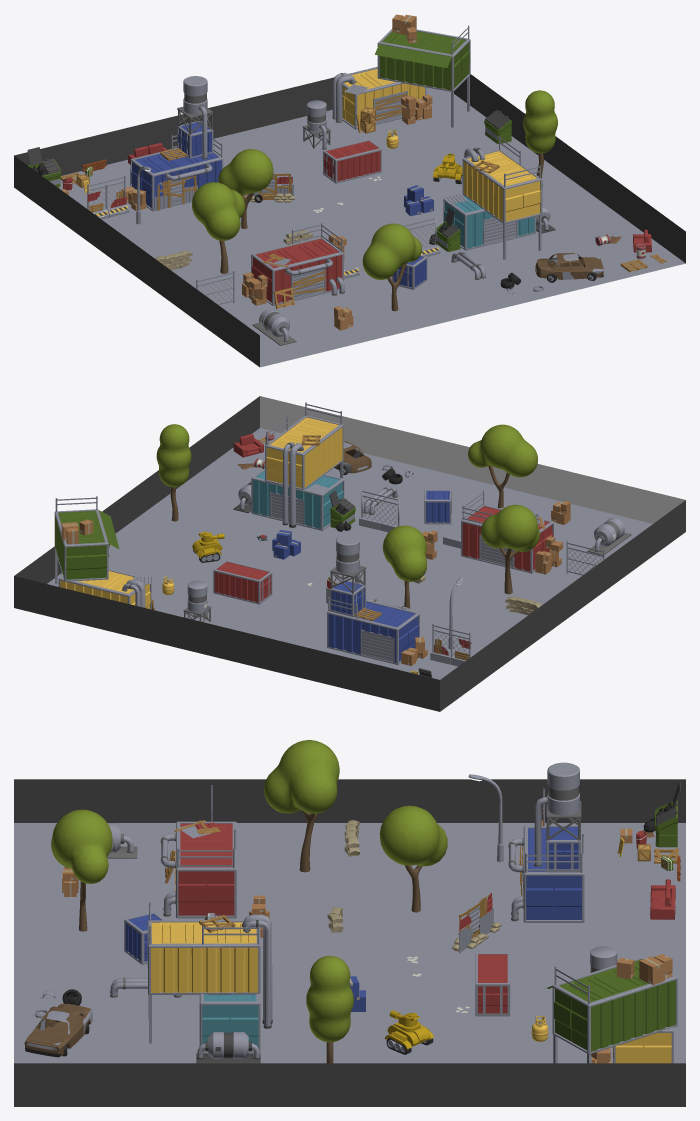
The model's file is map.glb.
3 views of the same model, one above another, from view 1: azimuth 30°, elevation 25°; view 2: azimuth 150°, elevation 25°; view 3: azimuth 270°, elevation 25° (orthographic). The views are drawn at different scales.
Parts seen in each view (by area): view 1: Plane, Structure_2, Structure_4, Structure_3, Structure_1, Tree_3, Tree_1, Tree_4, Container_Long, Tree_2, Debris_BrokenCar, Barrier_Fixed (+7 smaller); view 2: Plane, Structure_4, Structure_3, Structure_2, Structure_1, Tree_3, Tree_1, Tree_4, Container_Long, Tree_2, Barrier_Fixed, Container_Small (+7 smaller); view 3: Plane, Structure_4, Structure_2, Structure_3, Structure_1, Tree_1, Tree_3, Tree_4, Tree_2, Debris_BrokenCar, Container_Long, Barrier_Trash (+6 smaller).
Part boxes in pixels (x1,y1,x2,y2): Plane: (14, 67, 685, 367); Structure_2: (332, 14, 470, 133); Structure_4: (429, 136, 555, 259); Structure_3: (121, 76, 223, 211); Structure_1: (242, 223, 344, 309); Tree_3: (362, 223, 421, 311); Tree_1: (192, 182, 245, 273); Tree_4: (218, 149, 273, 228); Container_Long: (323, 139, 381, 183); Tree_2: (523, 90, 557, 186); Debris_BrokenCar: (535, 253, 603, 282); Barrier_Fixed: (87, 175, 129, 219); Plane: (14, 396, 685, 711); Structure_4: (233, 402, 355, 531); Structure_3: (327, 535, 427, 665); Structure_2: (54, 496, 154, 610); Structure_1: (461, 490, 563, 574); Tree_3: (468, 424, 537, 508); Tree_1: (481, 504, 539, 594); Tree_4: (382, 525, 426, 608); Container_Long: (213, 560, 272, 604); Tree_2: (156, 424, 191, 521); Barrier_Fixed: (430, 623, 471, 666); Container_Small: (424, 489, 451, 524); Plane: (14, 779, 685, 1106); Structure_4: (147, 902, 272, 1063); Structure_2: (546, 954, 677, 1063); Structure_3: (508, 762, 584, 922); Structure_1: (160, 820, 236, 918); Tree_1: (264, 740, 339, 872); Tree_3: (51, 809, 112, 931); Tree_4: (379, 805, 447, 912); Tree_2: (306, 956, 353, 1063); Debris_BrokenCar: (24, 1003, 92, 1057); Container_Long: (475, 953, 510, 1016); Barrier_Trash: (452, 892, 501, 953).
Size of the model in its own units: 39.88 by 9.65 by 39.88.
27 materials, 1 textured.
